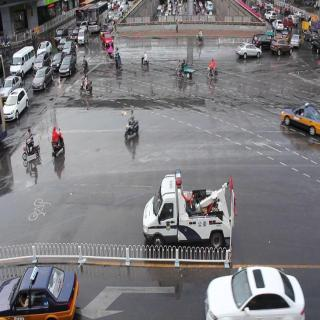BigCar: (84, 4, 112, 30), (72, 5, 96, 27)
Car: (130, 175, 241, 252), (193, 254, 297, 320), (0, 263, 79, 320), (276, 88, 320, 150), (0, 85, 31, 122), (11, 39, 32, 76), (234, 36, 258, 66), (270, 31, 294, 60), (31, 60, 52, 93), (97, 21, 116, 54), (250, 31, 273, 54), (50, 24, 69, 48), (60, 52, 76, 80), (270, 11, 288, 33), (2, 74, 20, 94), (76, 26, 90, 50), (34, 50, 50, 70), (36, 39, 52, 58), (53, 50, 68, 68), (292, 28, 302, 48)
